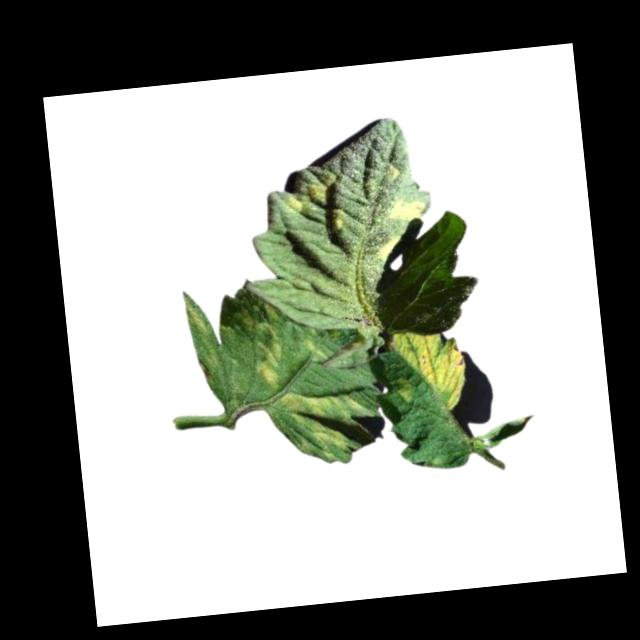Leaf_Mold: (392, 324, 471, 413), (277, 382, 369, 455), (251, 320, 290, 392), (382, 191, 428, 223), (308, 173, 338, 206), (285, 191, 304, 213)
